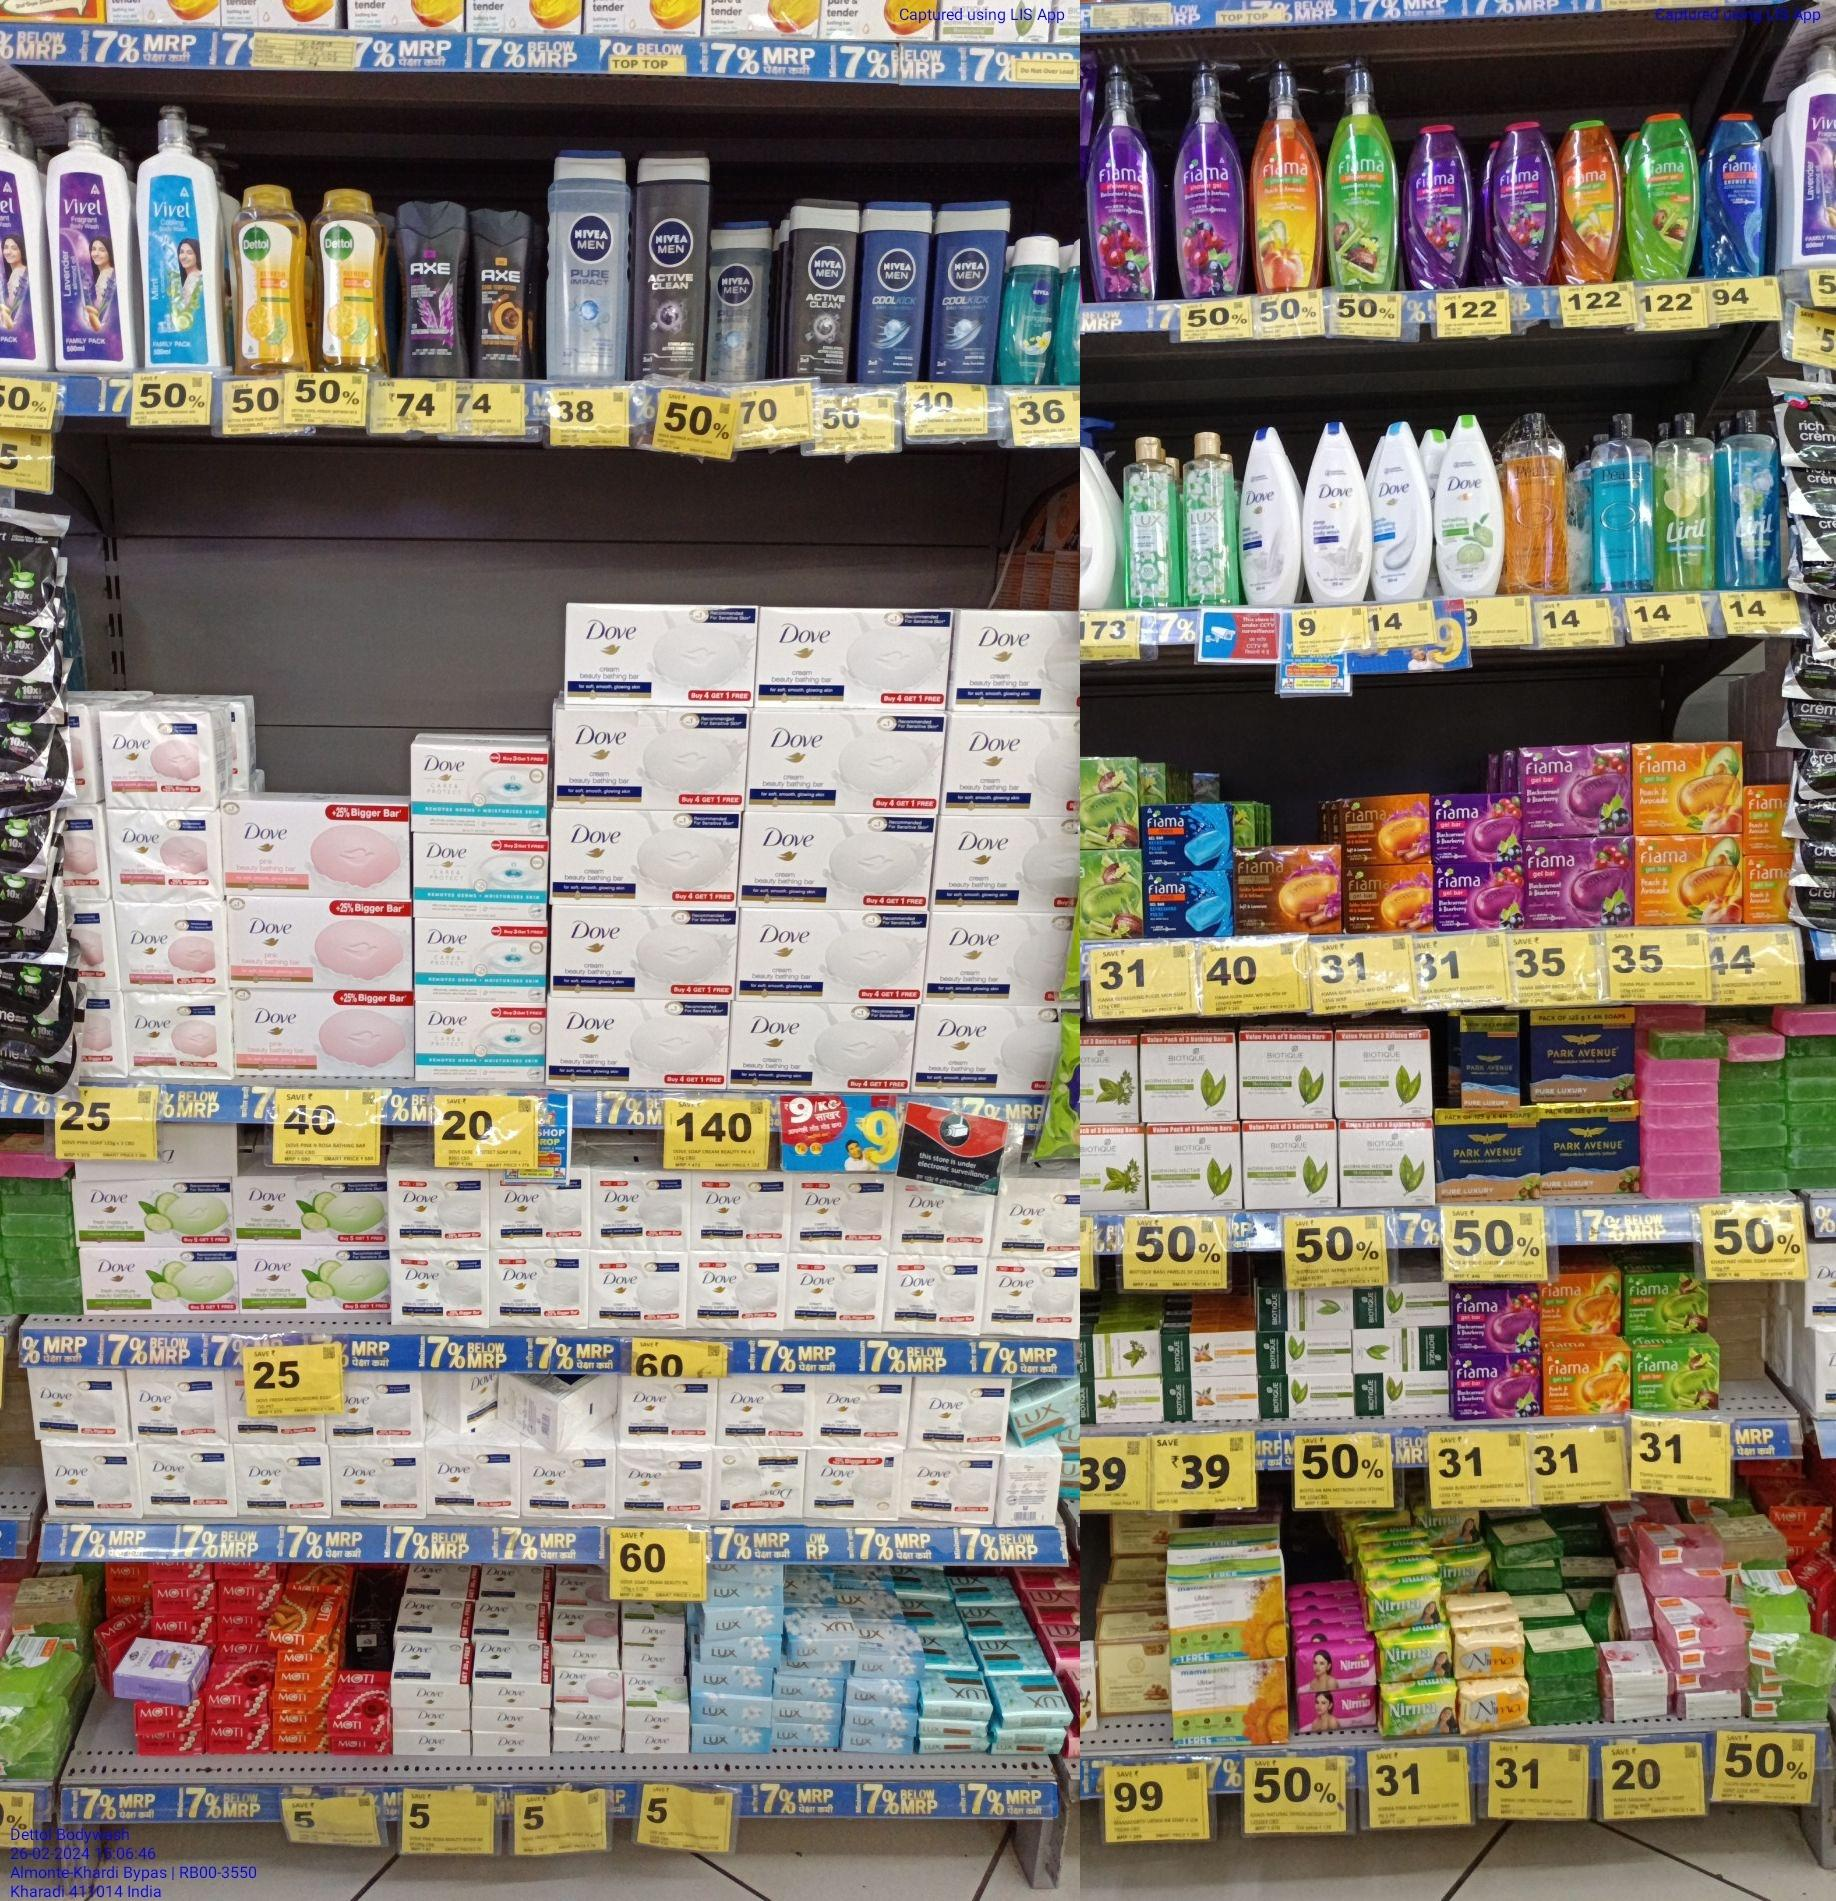Dettol_Bodywash_Refresh: (309, 188, 389, 373), (231, 185, 309, 372)
Dove_Deep_Moisture_Body_Wash_250ML: (1301, 418, 1371, 604), (1239, 424, 1298, 606)
Dove_Gentle_Exfoliating_Body_Wash_250ML: (1373, 421, 1430, 601)
Dove_Refreshing_Body_Wash_250ML: (1432, 412, 1502, 597)
Nivea_Shower_Gel_Frangipani_and_Oil_250ML: (998, 233, 1059, 387)
